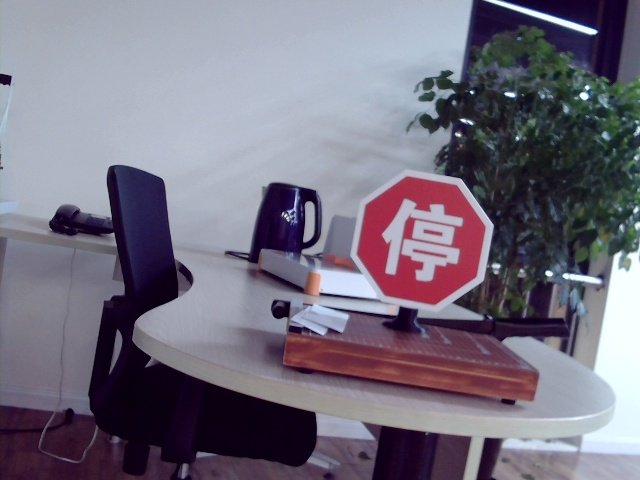stop: (382, 192, 466, 284)
